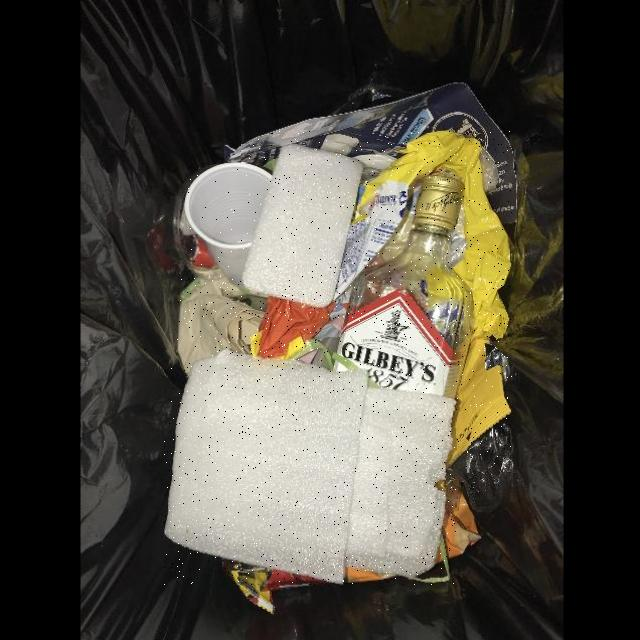glass: (338, 175, 472, 398)
paper: (178, 277, 264, 376)
plastic: (185, 163, 272, 288)
styrofoam: (164, 350, 456, 585), (241, 145, 362, 308)
wrapper: (251, 132, 512, 468)
